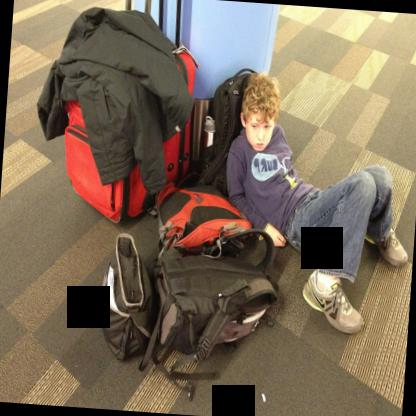backpack: (142, 229, 275, 400), (199, 74, 254, 199), (157, 182, 251, 252)
handbag: (94, 231, 154, 364)
suitcase: (63, 44, 200, 226)
